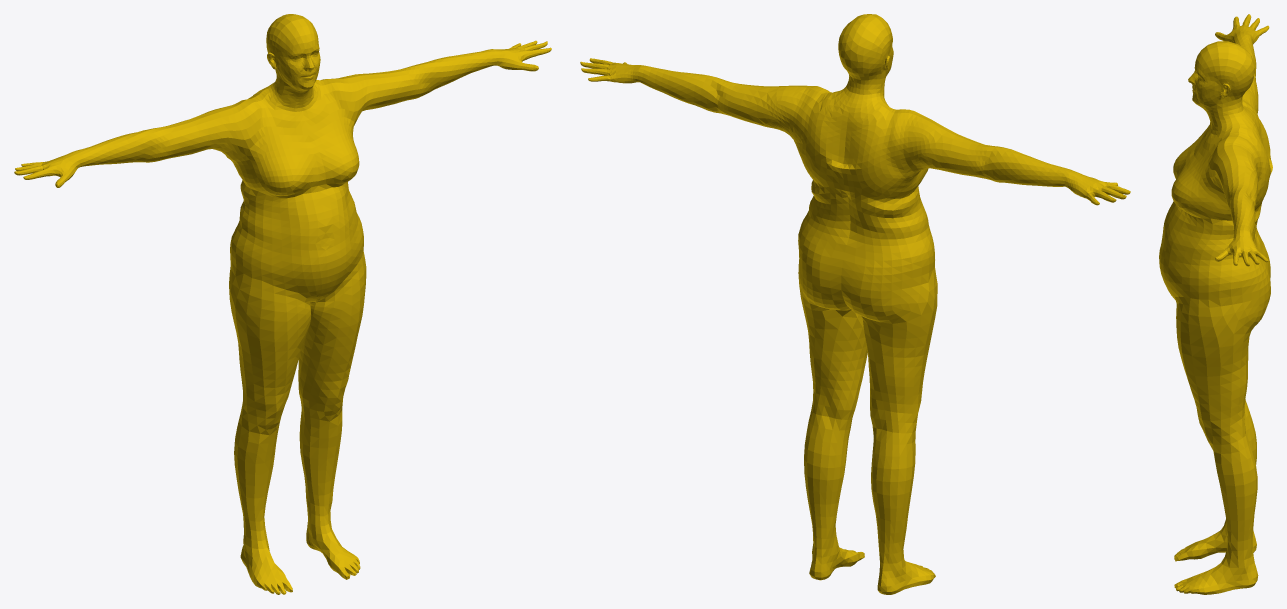
File: digital_twin.glb
3 views of the same model, side by side, from view 1: azimuth 30°, elevation 25°; view 2: azimuth 150°, elevation 25°; view 3: azimuth 270°, elevation 25° (orthographic). The views are drawn at different scales.
Visible parts, largest first — view 1: world; view 2: world; view 3: world.
Part boxes in pixels (x1=…): world: x1=14, y1=14, x2=551, y2=594; world: x1=580, y1=14, x2=1130, y2=594; world: x1=1159, y1=14, x2=1272, y2=594.
Bounding box in the file's own units: 2.32 × 2.3 × 0.4458.
